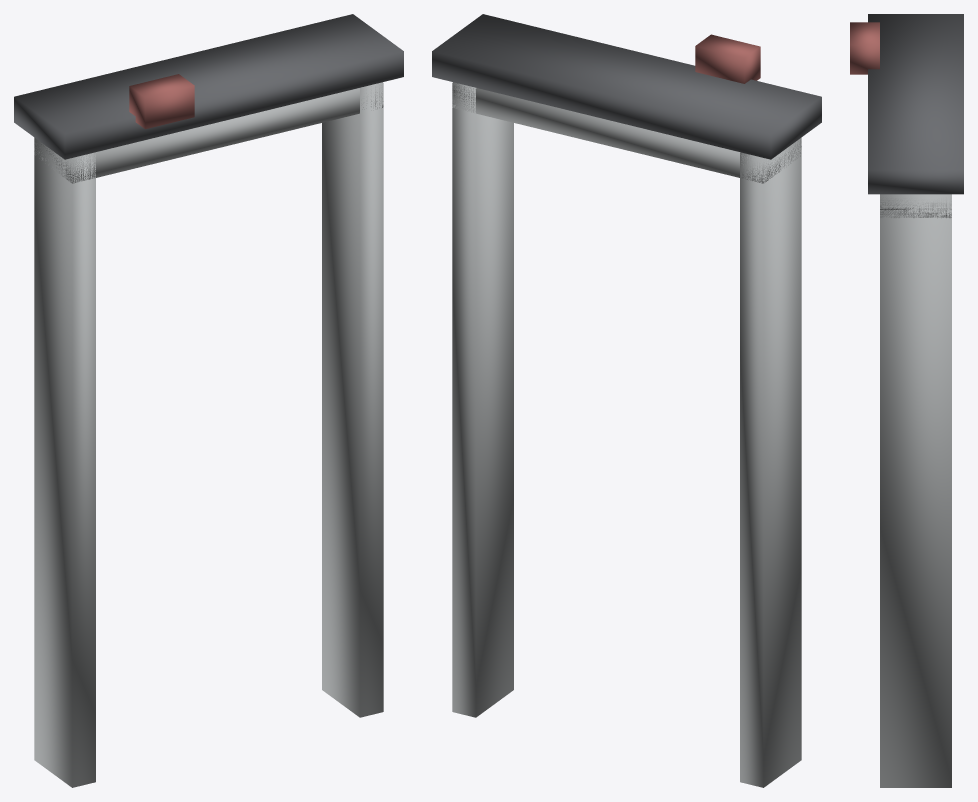
File: doorway_fire_rated_w96_h210_d24.glb
The picture shows the model from 3 angles, left to right: view 1: azimuth 30°, elevation 25°; view 2: azimuth 150°, elevation 25°; view 3: azimuth 270°, elevation 25°; orthographic projection. The views are drawn at different scales.
Visible parts, largest first — view 1: world; view 2: world; view 3: world.
Part boxes in pixels (x1,y1,x2,y2): world: (14,14,403,787); world: (432,14,821,787); world: (850,14,963,787).
Size of the model in its own units: 1.23 by 2.39 by 0.38.
